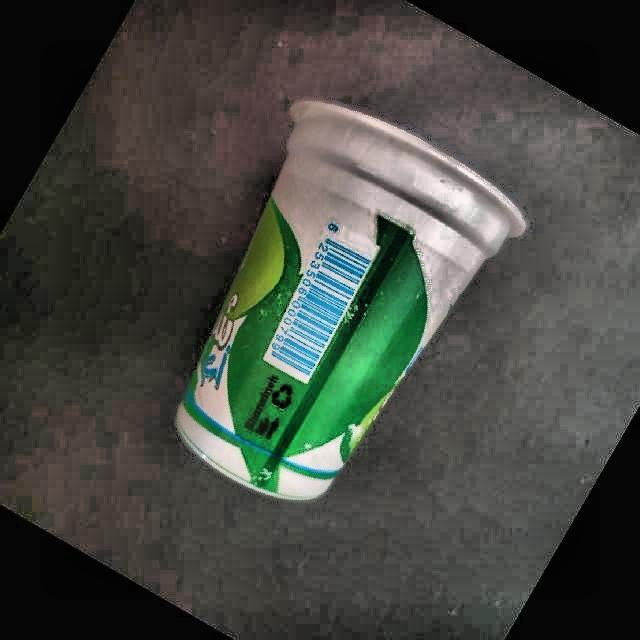plastic: (178, 101, 526, 499)
